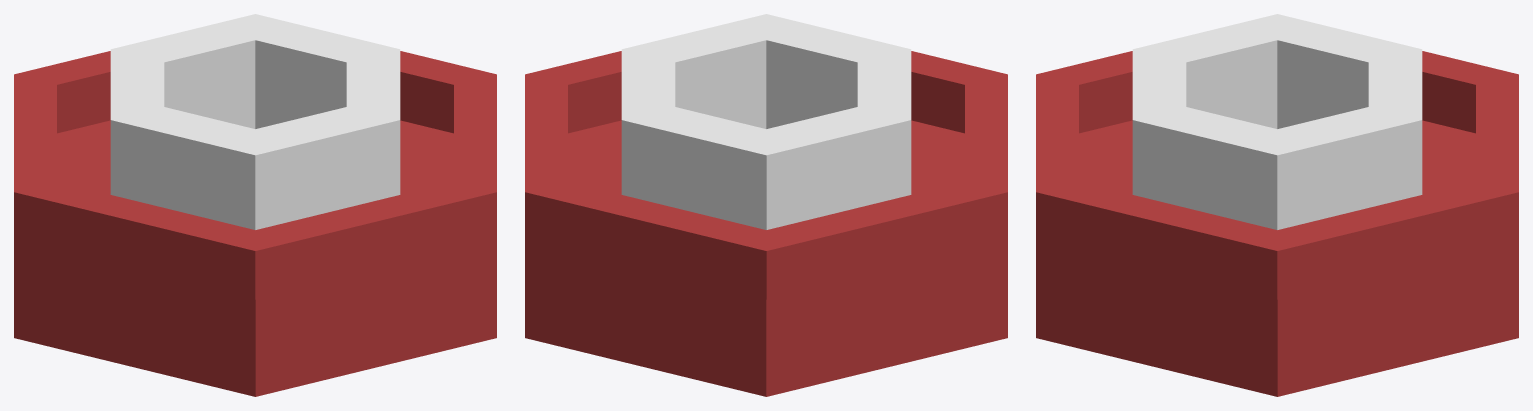
File: r2c_red_soldier.fbx
3 views of the same model, side by side, from view 1: azimuth 30°, elevation 25°; view 2: azimuth 150°, elevation 25°; view 3: azimuth 270°, elevation 25° (orthographic).
Visible parts, largest first — view 1: 개체_1, 개체_2; view 2: 개체_1, 개체_2; view 3: 개체_1, 개체_2.
Part boxes in pixels (bbox=[...]): 개체_1: bbox=[14, 51, 496, 396]; 개체_2: bbox=[110, 14, 400, 229]; 개체_1: bbox=[525, 51, 1007, 396]; 개체_2: bbox=[621, 14, 911, 229]; 개체_1: bbox=[1036, 51, 1518, 396]; 개체_2: bbox=[1132, 14, 1422, 229].
Size of the model in its own units: 5.2 by 2 by 4.5.
